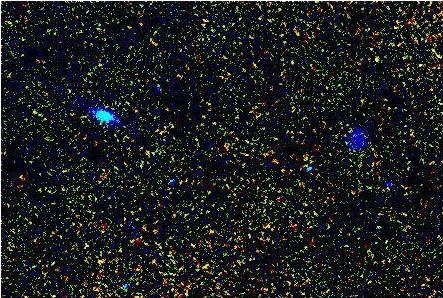star: (356, 45, 386, 75)
